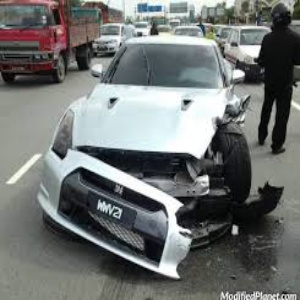bonnet: (102, 86, 251, 155)
bumper: (77, 155, 251, 282)
